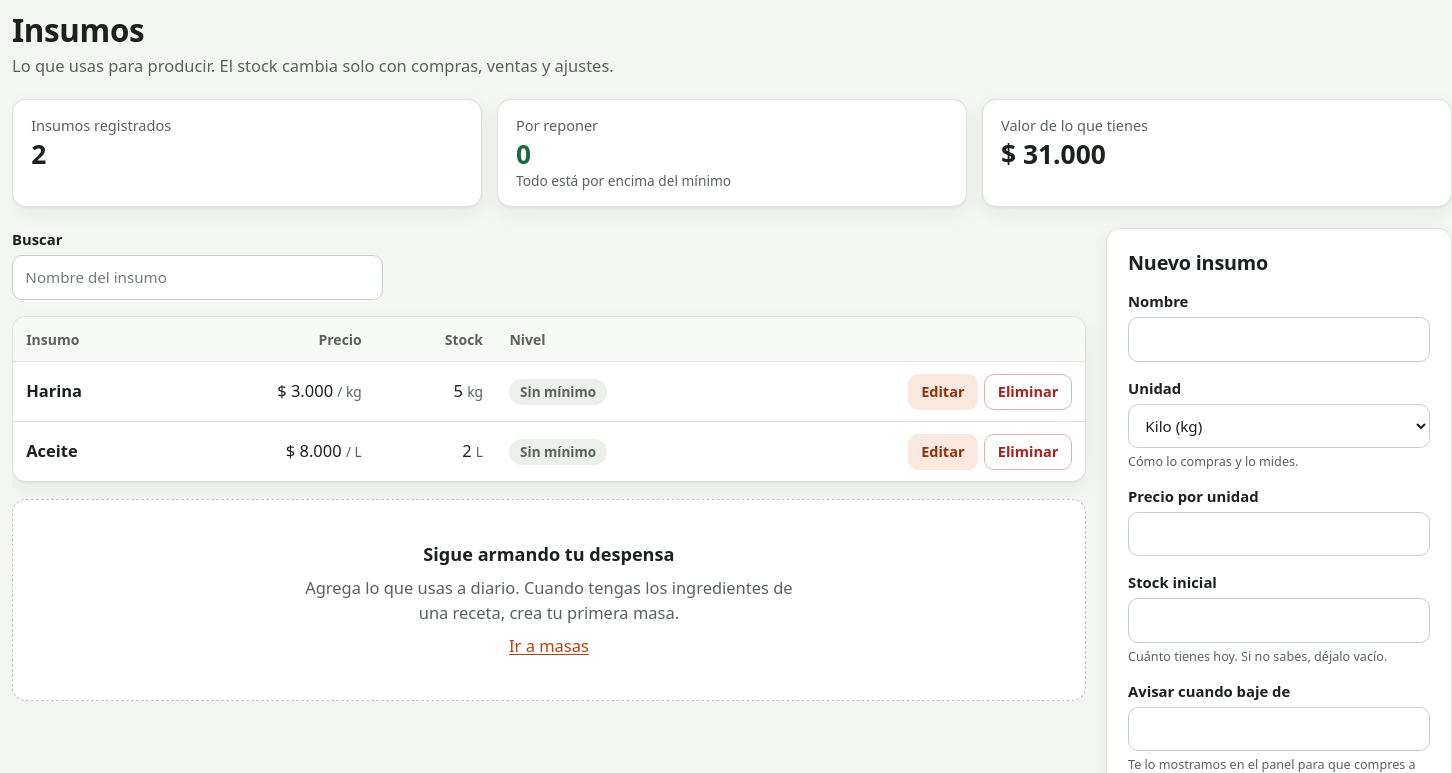
Test: HU-03 Insumos (funcionales) › CA-6: pide confirmación y avisa si el insumo está en uso
Expected: the text "Harina" is shown, [26,379,82,402]
Click the button "Eliminar" in the row of "Harina" at (1028,392), box [984,374,1072,410]
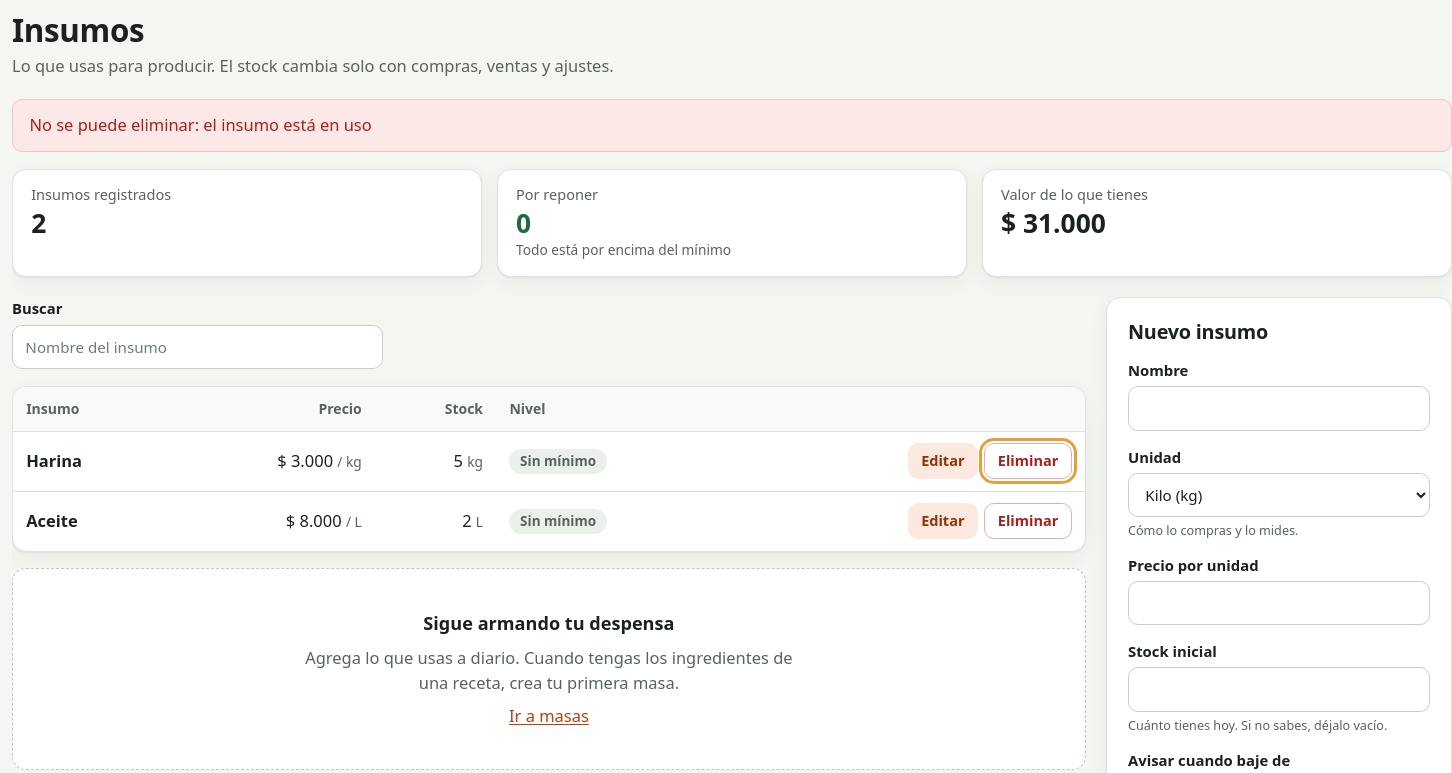
Expected: the message shows "en uso", [30,113,372,136]
